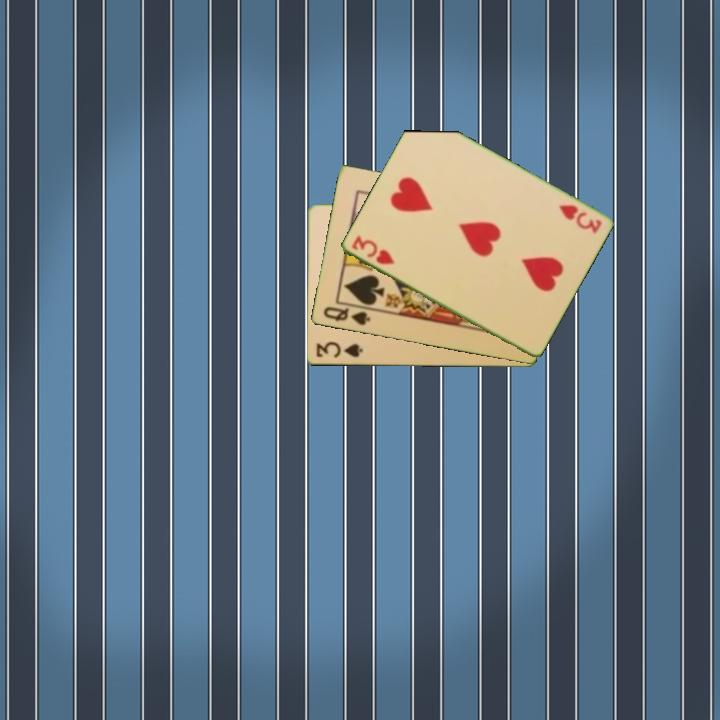3h: (348, 232, 397, 268), (555, 201, 604, 236)
3s: (313, 339, 365, 361)
Qs: (319, 303, 373, 329)
